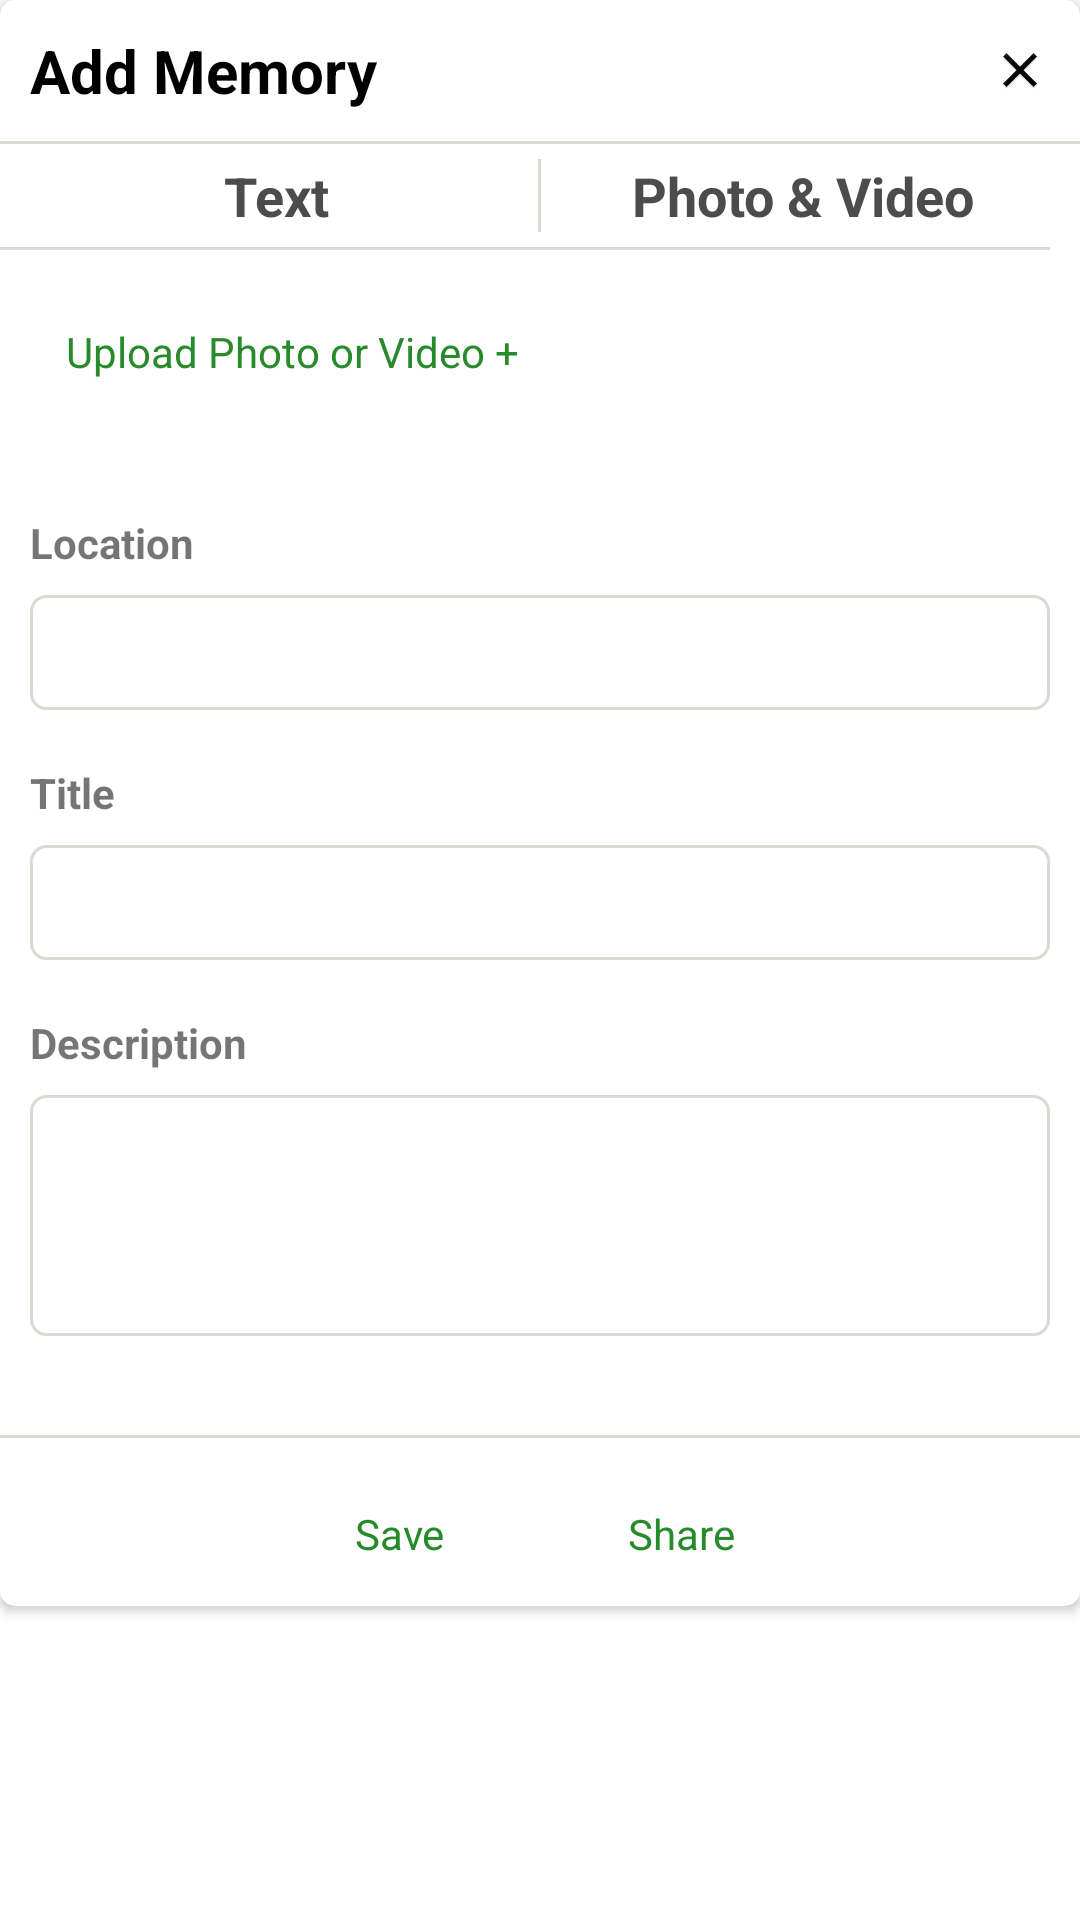

Named icons in this screenshot (1080 x 1920) and their bounding boxes, Rect(x1, y1, x2, y2):
close: Rect(1003, 53, 1037, 87)
